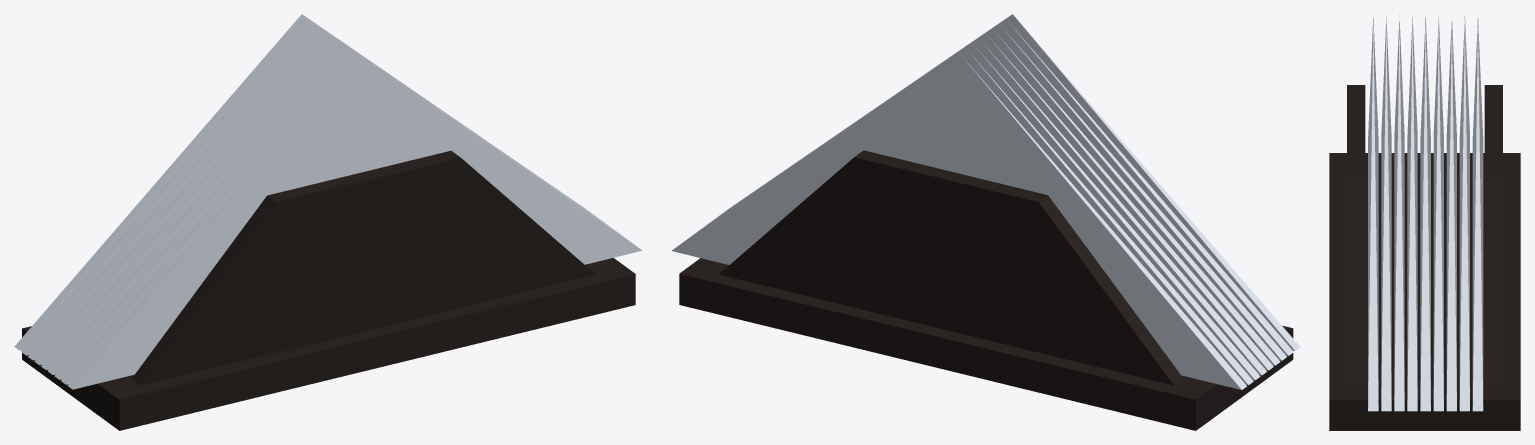
Rendered from Napkins.fbx.
3 views of the same model, side by side, from view 1: azimuth 30°, elevation 25°; view 2: azimuth 150°, elevation 25°; view 3: azimuth 270°, elevation 25° (orthographic).
Parts seen in each view (by area): view 1: Stand, Napkins; view 2: Stand, Napkins; view 3: Napkins, Stand.
Part boxes in pixels (left/top/right/bottom): Stand: left=22, top=150, right=635, bottom=430; Napkins: left=14, top=14, right=642, bottom=389; Stand: left=679, top=150, right=1293, bottom=430; Napkins: left=671, top=14, right=1300, bottom=389; Napkins: left=1368, top=14, right=1483, bottom=411; Stand: left=1329, top=85, right=1520, bottom=430.
Bounding box in the file's own units: 18.78 × 9.4 × 5.56.
